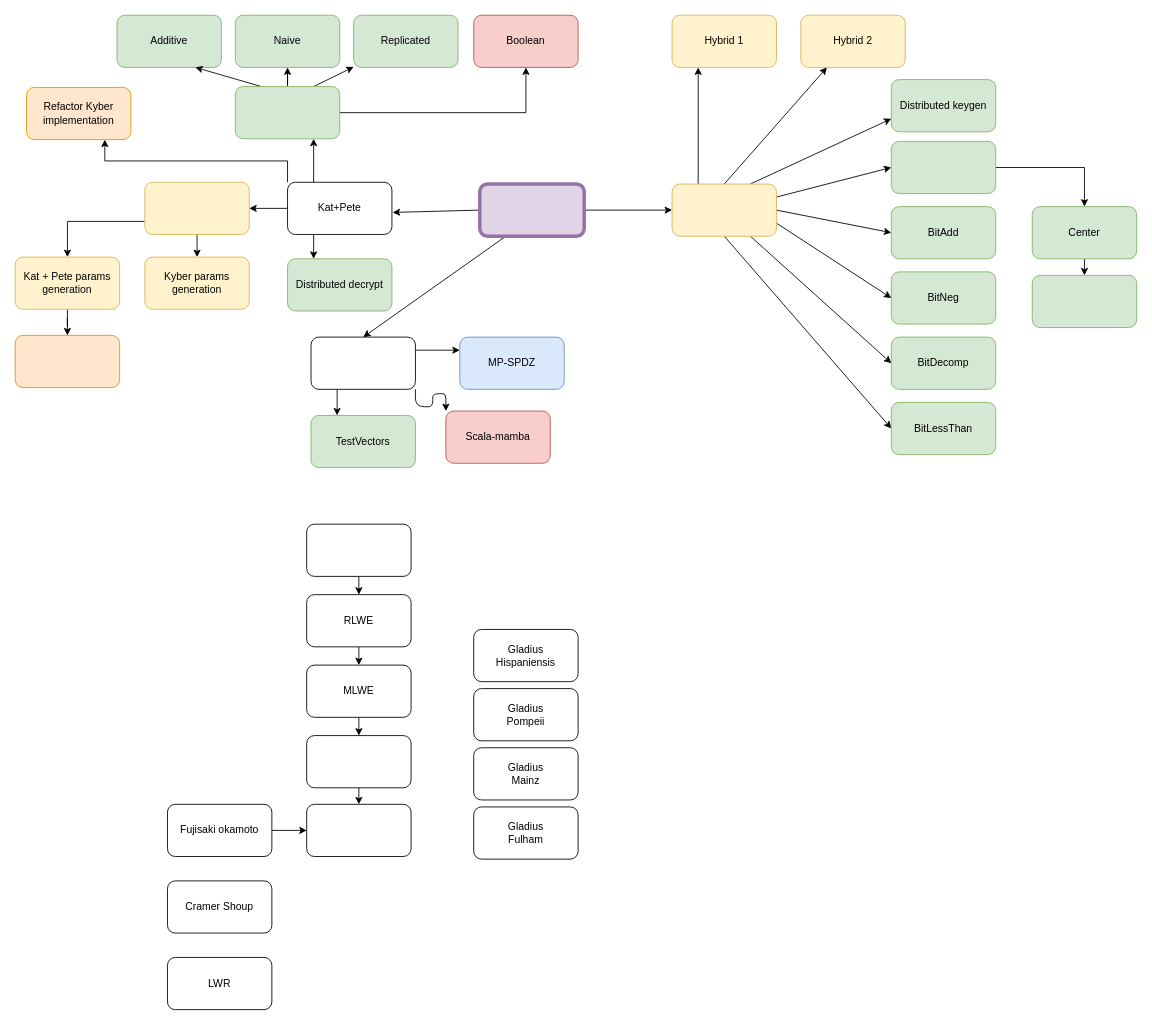
Image size: 1152x1025. Some labels were removed from this diagram. The centre of each missing label's shape, as x and y in pixels:
"Circuit" belongs at point (362, 362).
"Figur 17" belongs at point (943, 167).
"Gladius" belongs at point (723, 209).
"IND-CCA Kyber" belongs at point (358, 830).
"IND-CPA Kyber" belongs at point (358, 761).
"LWE" belongs at point (358, 549).
"Masters" belongs at point (532, 210).
"Params" belongs at point (196, 207).
"Q based on chinese remainder theorem" belongs at point (67, 361).
"Secret sharing" belongs at point (287, 112).
"Simplification with kyber" belongs at point (1084, 301).
